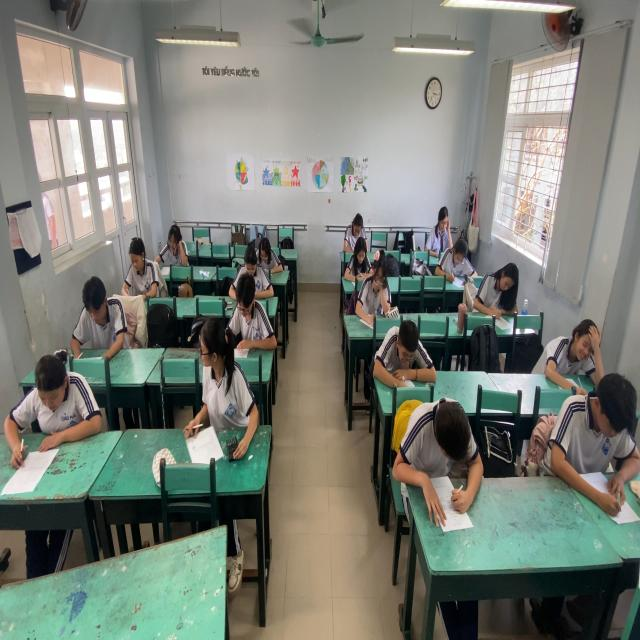cheating: (196, 320, 257, 436)
not_cheating: (398, 385, 479, 500), (558, 377, 636, 482), (20, 348, 100, 437), (77, 270, 131, 354), (551, 306, 607, 379), (375, 307, 426, 379), (470, 261, 526, 324), (117, 236, 163, 308), (227, 233, 277, 296), (230, 278, 272, 352), (354, 251, 393, 319), (156, 212, 188, 267), (434, 239, 477, 279), (427, 203, 457, 252), (342, 203, 372, 248), (337, 231, 367, 275), (251, 232, 278, 275)
